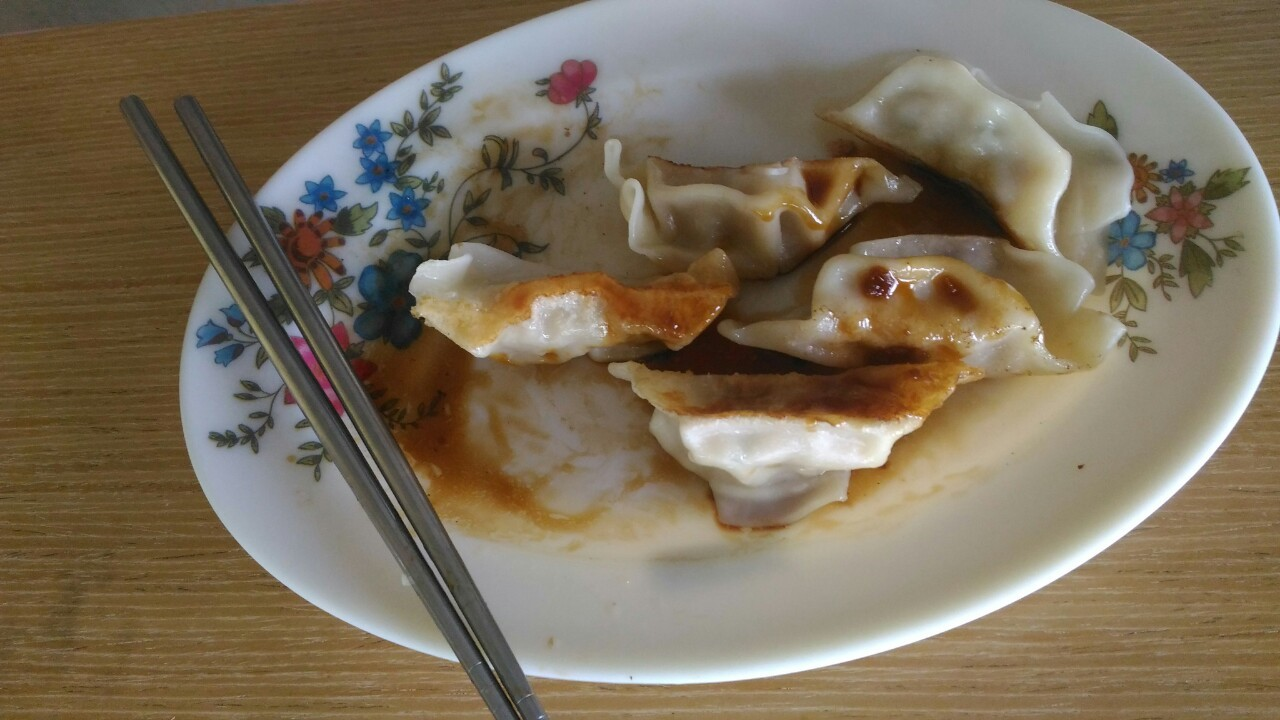fried_dumplings: (424, 62, 1120, 532)
